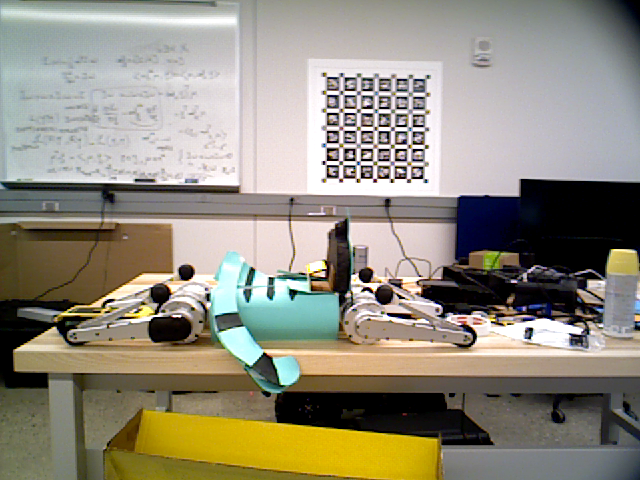painting4: (306, 58, 448, 191)
